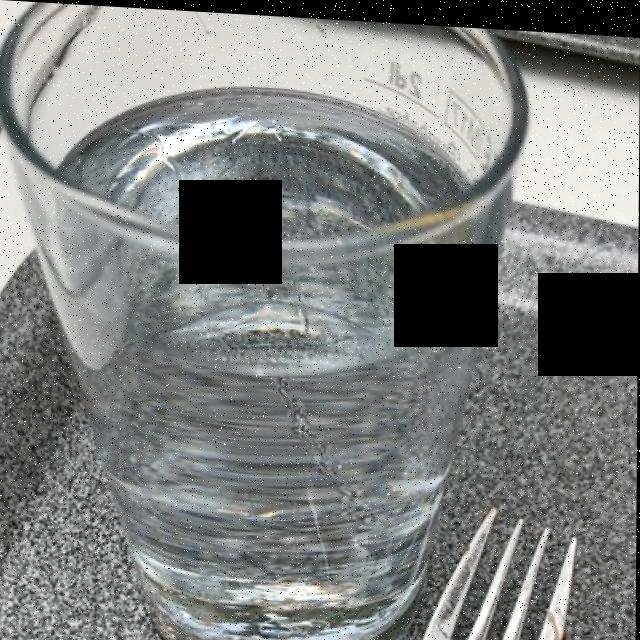water: (41, 60, 477, 608)
